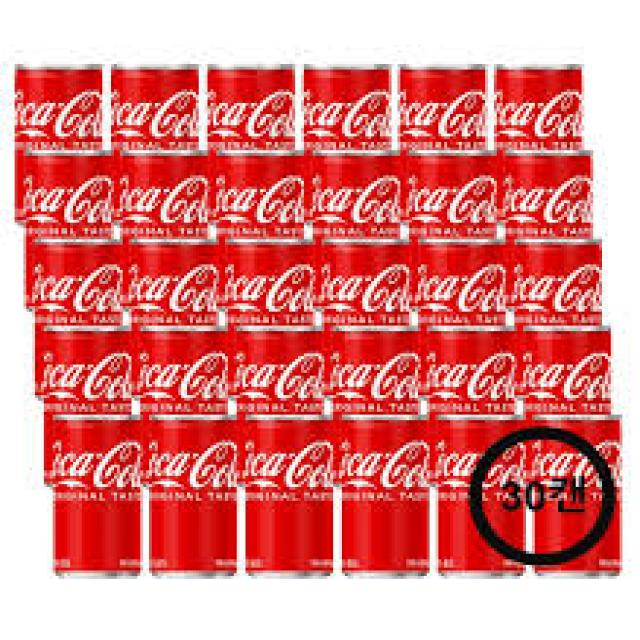Coca-Cola: (39, 402, 149, 583), (228, 232, 322, 426), (493, 59, 596, 233), (418, 238, 519, 410), (236, 407, 332, 587), (137, 322, 239, 491), (529, 406, 628, 580), (504, 234, 604, 404), (145, 406, 237, 590), (130, 234, 226, 410), (501, 142, 599, 314), (427, 404, 519, 586), (340, 404, 433, 584), (303, 55, 396, 235), (40, 321, 136, 494), (31, 233, 126, 407), (322, 238, 418, 410), (119, 144, 217, 312), (8, 58, 108, 220), (398, 59, 492, 231), (525, 322, 618, 493), (23, 143, 115, 315), (408, 143, 500, 315), (207, 57, 299, 227), (218, 144, 310, 312), (112, 59, 201, 232), (312, 142, 405, 307), (235, 324, 322, 498), (429, 322, 521, 484), (332, 325, 421, 489)
